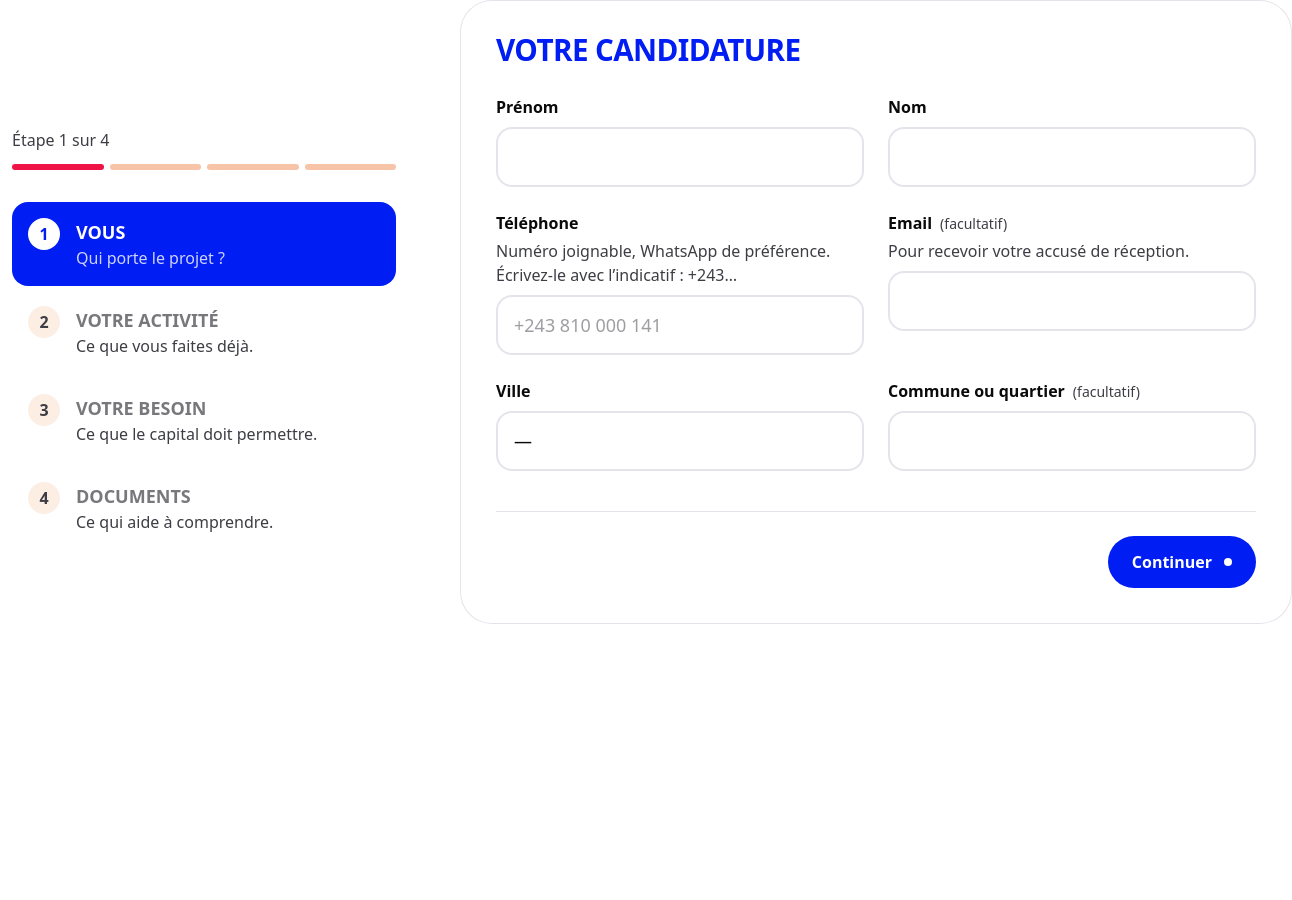
it: ApplicationForm › bloque le passage à l’étape suivante tant que l’étape est incomplète
The image size is (1292, 900).
Click the button "Continuer": (1182, 562) top-left (1108, 536), bottom-right (1256, 588)
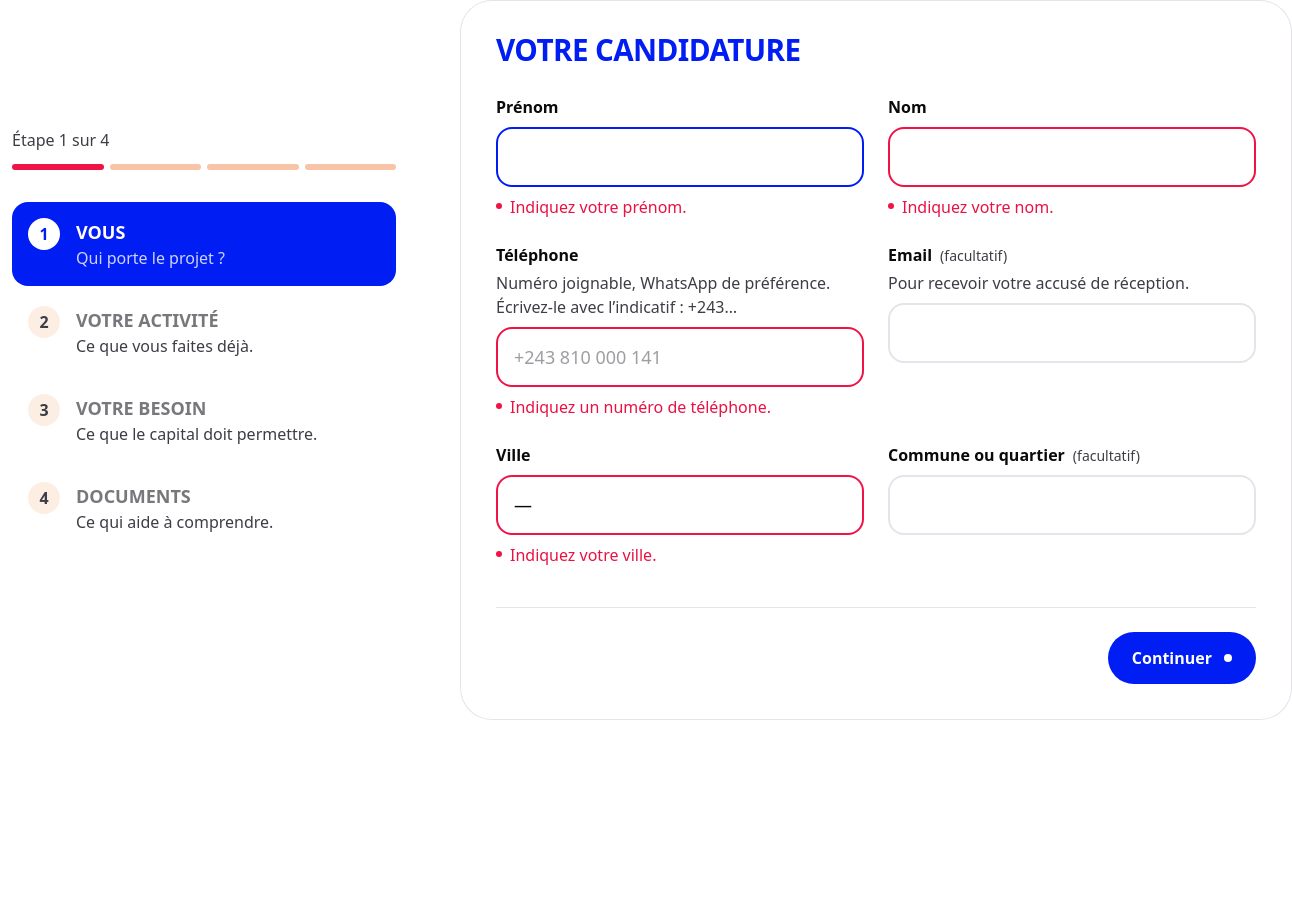
Expected: the field labelled "Prénom" is shown, top-left (496, 127), bottom-right (864, 187)
Result: the text "Indiquez votre prénom." is shown at top-left (496, 196), bottom-right (687, 218)
